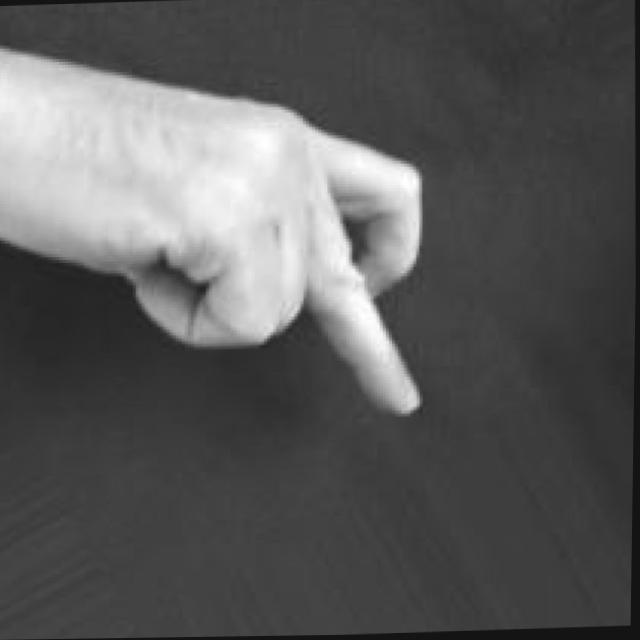P: (0, 67, 440, 432)
